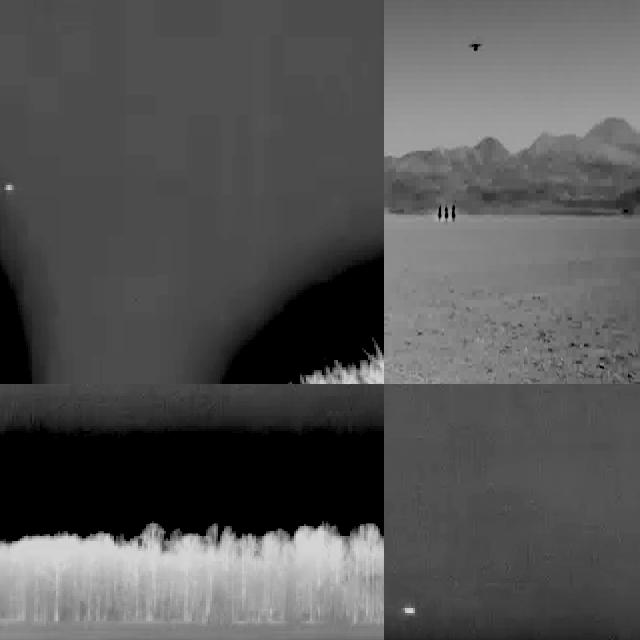0: (0, 175, 20, 200)
1: (397, 602, 427, 622)
drone: (464, 34, 486, 60)
